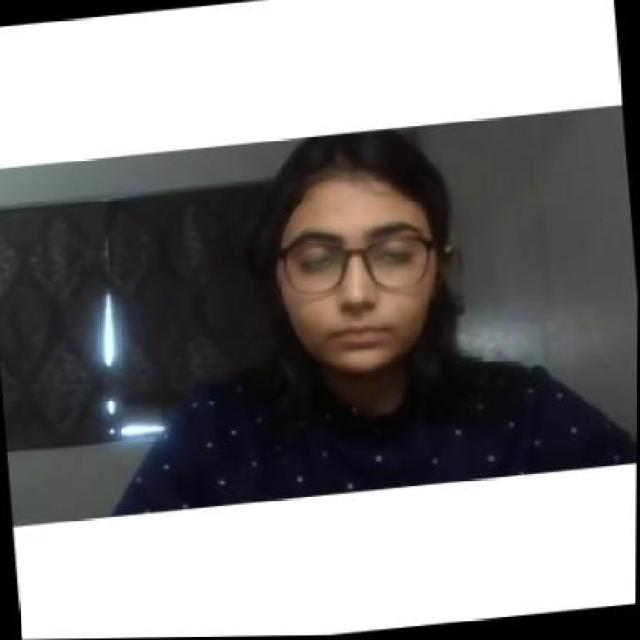inattentif: (253, 124, 462, 384)
